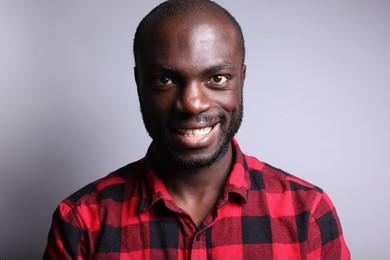face: (140, 16, 244, 166)
